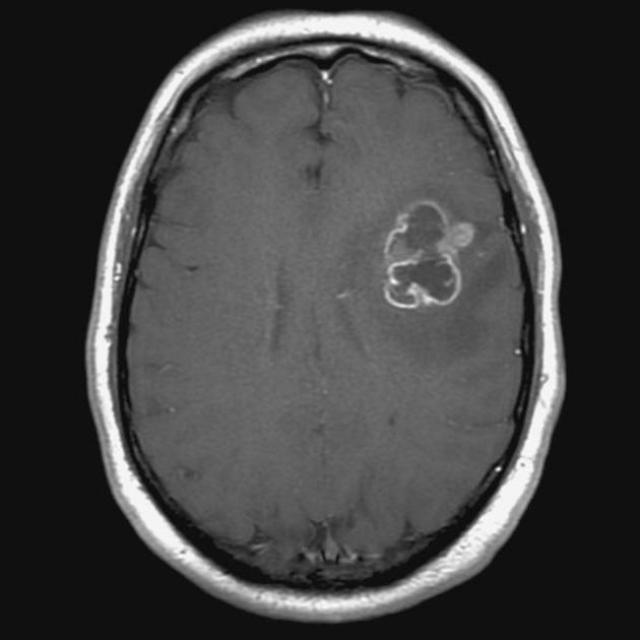Tumor-Cell: (383, 185, 477, 334)
